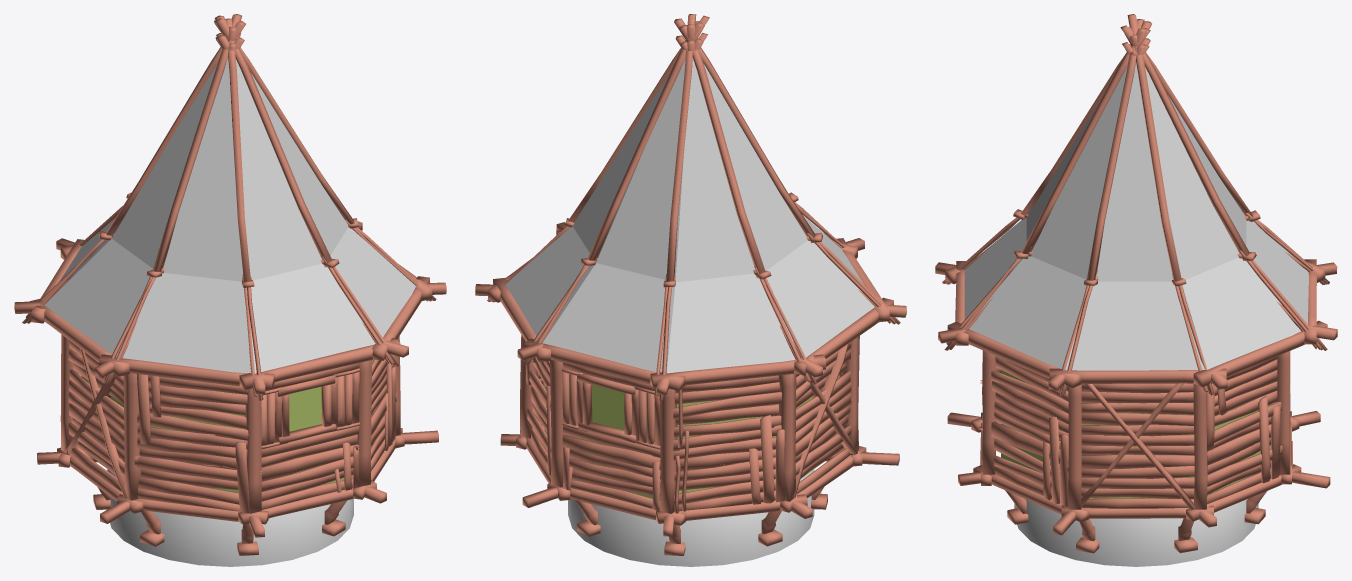
Rendered from tower_b_crown_b.fbx.
The picture shows the model from 3 angles, left to right: view 1: azimuth 30°, elevation 25°; view 2: azimuth 150°, elevation 25°; view 3: azimuth 270°, elevation 25°; orthographic projection.
Parts seen in each view (by area): view 1: Cube.104, Cylinder.023, Cylinder.021, Cylinder.022; view 2: Cube.104, Cylinder.023, Cylinder.021, Cylinder.022; view 3: Cube.104, Cylinder.023, Cylinder.021, Cylinder.022.
Part boxes in pixels (box(x1,y1,x2,y2)): Cube.104: box(14, 14, 446, 555); Cylinder.023: box(44, 57, 415, 373); Cylinder.021: box(107, 469, 353, 566); Cylinder.022: box(84, 359, 373, 493); Cube.104: box(475, 14, 906, 555); Cylinder.023: box(505, 58, 874, 373); Cylinder.021: box(568, 469, 814, 566); Cylinder.022: box(544, 378, 837, 500); Cube.104: box(935, 14, 1337, 553); Cylinder.023: box(964, 62, 1308, 370); Cylinder.021: box(1014, 499, 1258, 566); Cylinder.022: box(1001, 370, 1271, 498).
Bounding box in the file's own units: 16.38 × 22.35 × 16.46.
